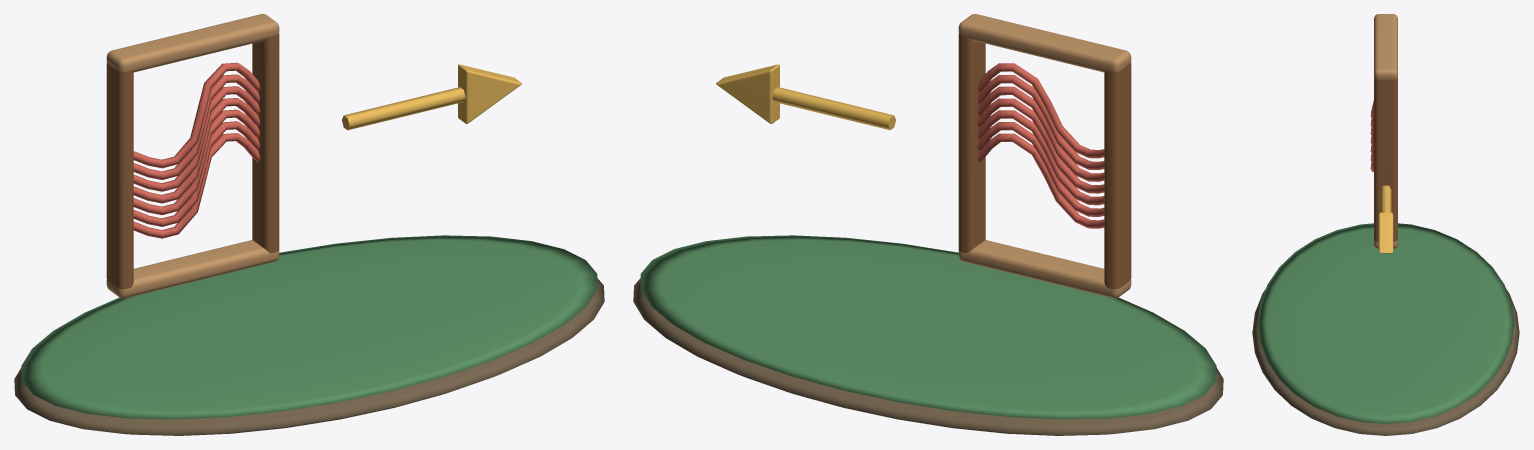
File: complete-first-thread-through-passage.glb
3 views of the same model, side by side, from view 1: azimuth 30°, elevation 25°; view 2: azimuth 150°, elevation 25°; view 3: azimuth 270°, elevation 25° (orthographic). The views are drawn at different scales.
Parts seen in each view (by area): view 1: complete-first-thread-through-passage_surface_01, complete-first-thread-through-passage_surface_04, complete-first-thread-through-passage_surface_00, complete-first-thread-through-passage_surface_02, complete-first-thread-through-passage_surface_05, complete-first-thread-through-passage_surface_03; view 2: complete-first-thread-through-passage_surface_01, complete-first-thread-through-passage_surface_04, complete-first-thread-through-passage_surface_00, complete-first-thread-through-passage_surface_02, complete-first-thread-through-passage_surface_05, complete-first-thread-through-passage_surface_03; view 3: complete-first-thread-through-passage_surface_01, complete-first-thread-through-passage_surface_00, complete-first-thread-through-passage_surface_04, complete-first-thread-through-passage_surface_05, complete-first-thread-through-passage_surface_03.
Boxes of the visible parts, left/top/right/bottom form: complete-first-thread-through-passage_surface_01: left=21, top=235, right=597, bottom=419; complete-first-thread-through-passage_surface_04: left=106, top=33, right=279, bottom=289; complete-first-thread-through-passage_surface_00: left=14, top=278, right=604, bottom=435; complete-first-thread-through-passage_surface_02: left=133, top=62, right=259, bottom=238; complete-first-thread-through-passage_surface_05: left=106, top=14, right=279, bottom=298; complete-first-thread-through-passage_surface_03: left=342, top=64, right=521, bottom=130; complete-first-thread-through-passage_surface_01: left=640, top=235, right=1216, bottom=419; complete-first-thread-through-passage_surface_04: left=958, top=33, right=1131, bottom=289; complete-first-thread-through-passage_surface_00: left=633, top=278, right=1223, bottom=435; complete-first-thread-through-passage_surface_02: left=977, top=63, right=1104, bottom=228; complete-first-thread-through-passage_surface_05: left=958, top=14, right=1131, bottom=298; complete-first-thread-through-passage_surface_03: left=716, top=64, right=895, bottom=130; complete-first-thread-through-passage_surface_01: left=1257, top=223, right=1514, bottom=423; complete-first-thread-through-passage_surface_00: left=1252, top=289, right=1519, bottom=435; complete-first-thread-through-passage_surface_04: left=1374, top=78, right=1397, bottom=241; complete-first-thread-through-passage_surface_05: left=1374, top=14, right=1397, bottom=248; complete-first-thread-through-passage_surface_03: left=1378, top=185, right=1393, bottom=253.
Size of the model in its own units: 4.56 by 2.7 by 2.5.
